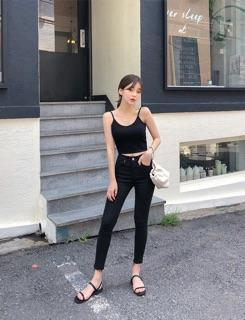Tshirt: (109, 107, 150, 156)
pants: (102, 160, 155, 268)
